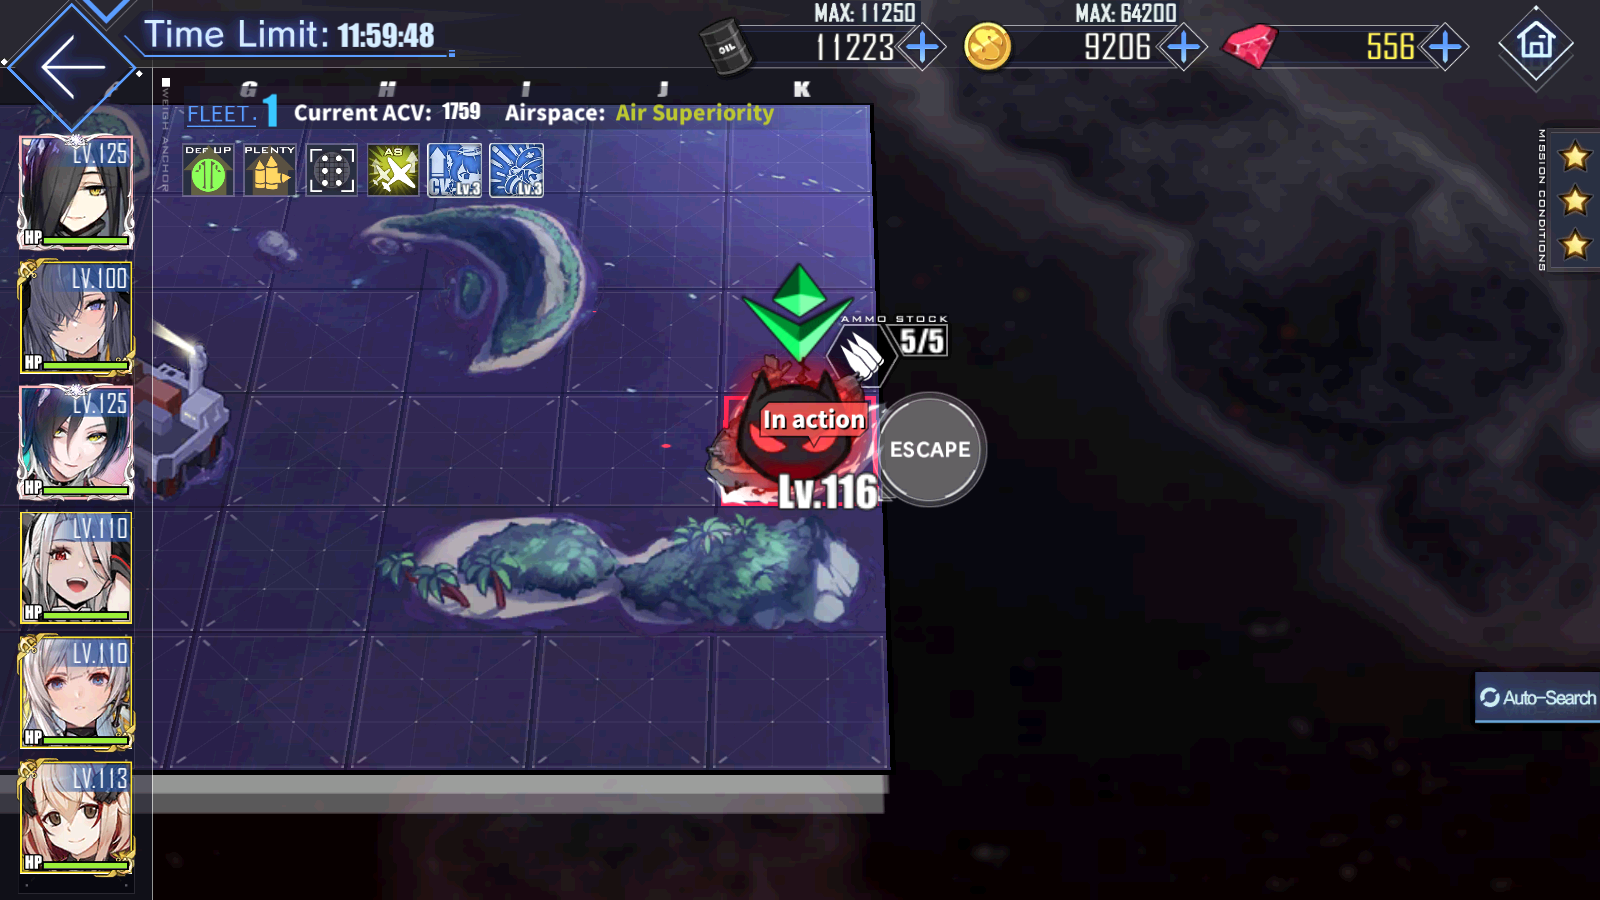boss: (705, 370, 880, 508)
